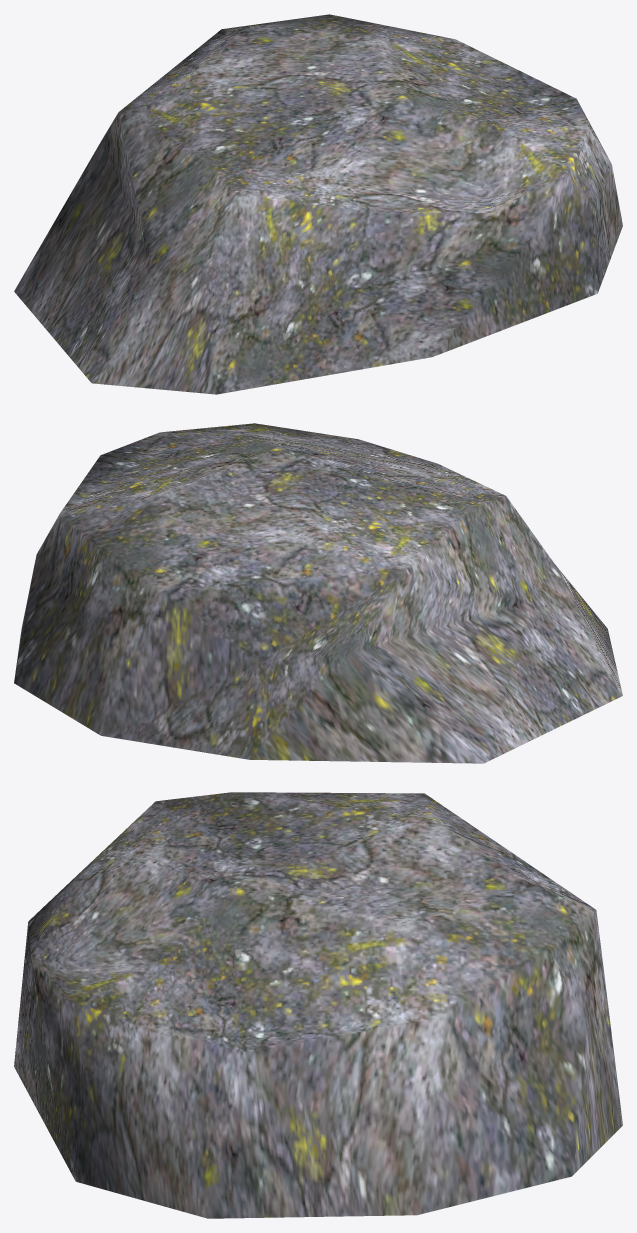
The model's file is rock_weatheredmossy_large_l0.fbx.
The picture shows the model from 3 angles, top to bottom: view 1: azimuth 30°, elevation 25°; view 2: azimuth 150°, elevation 25°; view 3: azimuth 270°, elevation 25°; orthographic projection. The views are drawn at different scales.
Parts seen in each view (by area): view 1: mesh_node; view 2: mesh_node; view 3: mesh_node.
Boxes of the visible parts, box(x1,y1,x2,y2) form: mesh_node: box(14, 14, 622, 394); mesh_node: box(14, 423, 622, 763); mesh_node: box(14, 792, 622, 1218).
Bounding box in the file's own units: 0.8513 × 0.2835 × 0.6865.
1 material, 1 textured.
